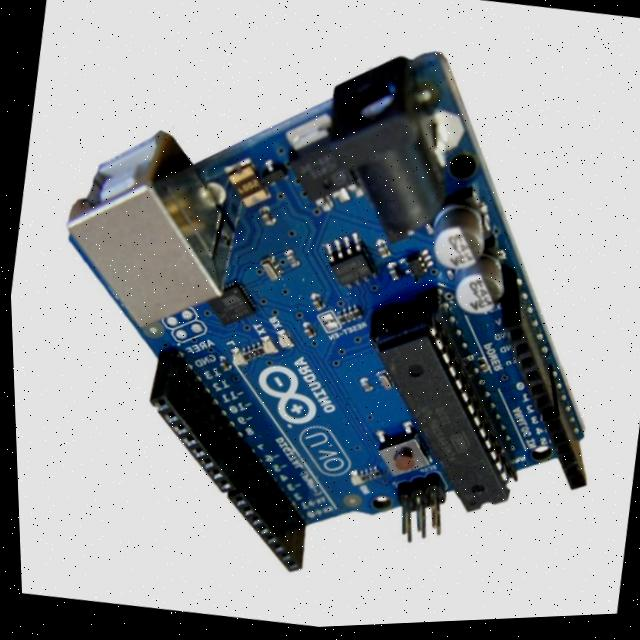Arduino: (15, 14, 610, 590)
